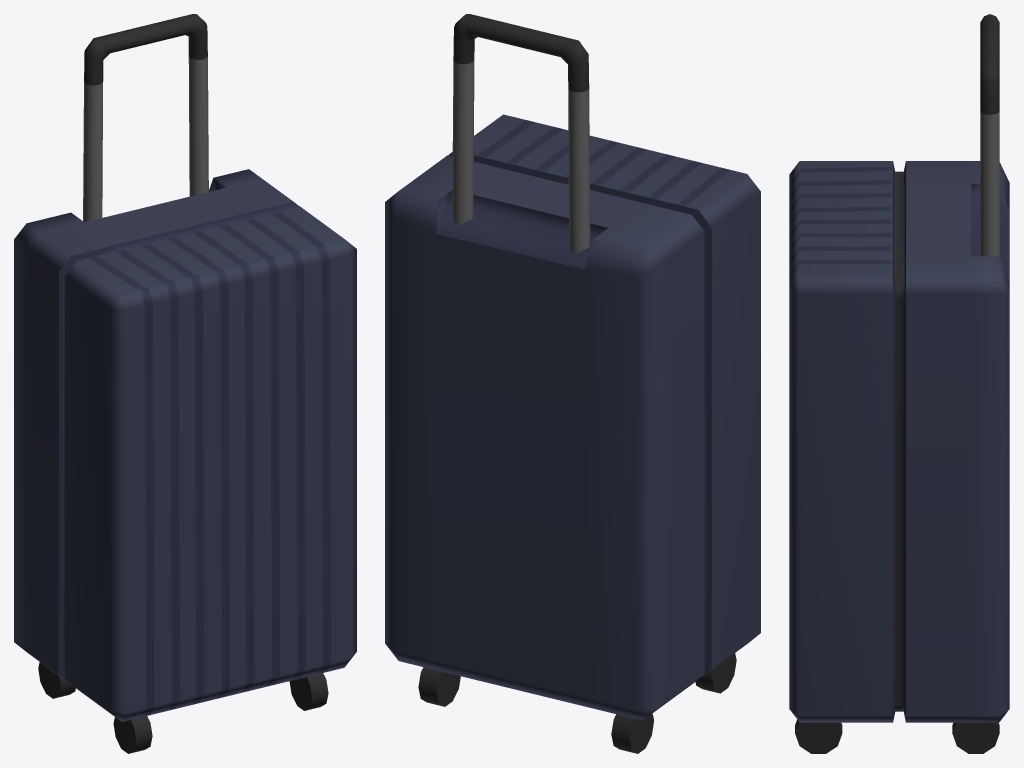
File: M_bag.fbx
3 renders of one model, left to right at view 1: azimuth 30°, elevation 25°; view 2: azimuth 150°, elevation 25°; view 3: azimuth 270°, elevation 25°, orthographic. The views are drawn at different scales.
Parts seen in each view (by area): view 1: pCylinder6; view 2: pCylinder6; view 3: pCylinder6.
Boxes of the visible parts, <box> form: pCylinder6: <box>14,14,356,753</box>; pCylinder6: <box>385,14,760,753</box>; pCylinder6: <box>789,14,1009,753</box>.
Bounding box in the file's own units: 46.83 × 116 × 34.56.
1 material, 1 textured.
